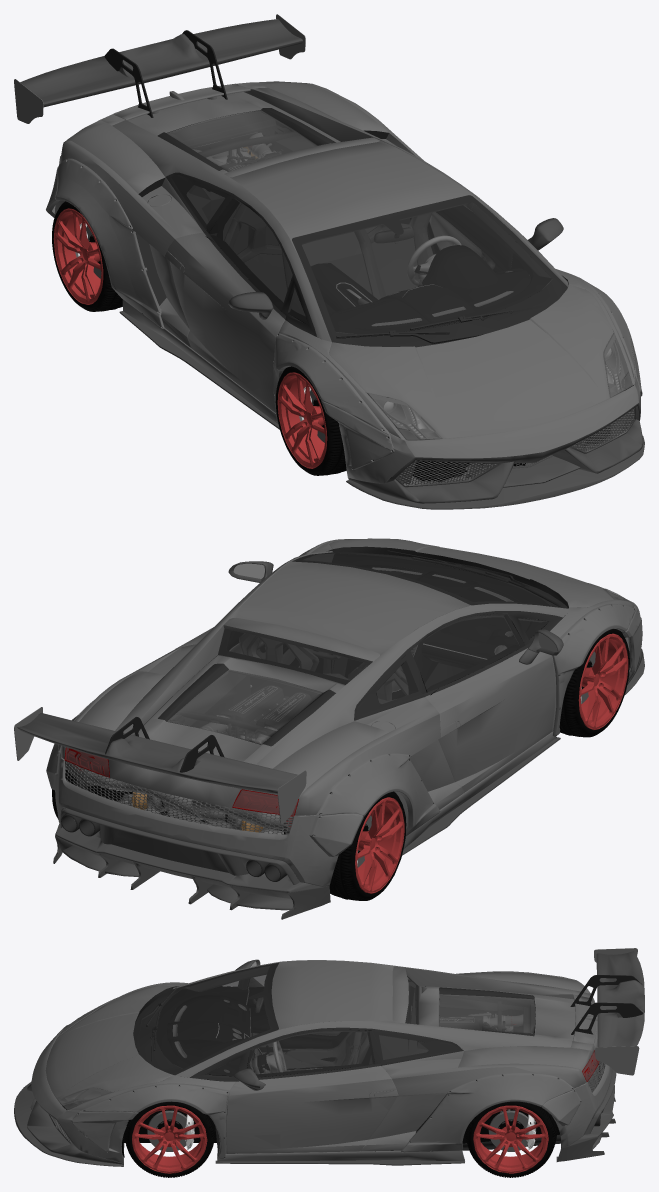
File: gallardo_50.glb
The picture shows the model from 3 angles, top to bottom: view 1: azimuth 30°, elevation 25°; view 2: azimuth 150°, elevation 25°; view 3: azimuth 270°, elevation 25°; orthographic projection. The views are drawn at different scales.
Parts seen in each view (by area): view 1: gallardo_hood_b_gallardo_paint_0, gallardo_tankintake_gallardo_turbo_matblack_0, gallardo_wheel_02a_19x11_gallardo_wheel_01a_0, gallardo_backlight_tinted_gallardo_glass_tinted_0, gallardo_comodo_gallardo_cockpit_0; view 2: gallardo_wheel_02a_19x11_gallardo_wheel_01a_0, gallardo_hood_b_gallardo_paint_0, gallardo_tankintake_gallardo_turbo_matblack_0, gallardo_comodo_gallardo_cockpit_0, gallardo_backlight_tinted_gallardo_glass_tinted_0; view 3: gallardo_hood_b_gallardo_paint_0, gallardo_wheel_02a_19x11_gallardo_wheel_01a_0, gallardo_tankintake_gallardo_turbo_matblack_0, gallardo_comodo_gallardo_cockpit_0, gallardo_backlight_tinted_gallardo_glass_tinted_0.
Boxes of the visible parts, x1,y1,x2,y2 form: gallardo_hood_b_gallardo_paint_0: (14,14,642,483); gallardo_tankintake_gallardo_turbo_matblack_0: (20,19,644,509); gallardo_wheel_02a_19x11_gallardo_wheel_01a_0: (53,81,568,468); gallardo_backlight_tinted_gallardo_glass_tinted_0: (167,110,628,440); gallardo_comodo_gallardo_cockpit_0: (52,111,633,481); gallardo_wheel_02a_19x11_gallardo_wheel_01a_0: (60,551,628,893); gallardo_hood_b_gallardo_paint_0: (14,538,642,886); gallardo_tankintake_gallardo_turbo_matblack_0: (17,561,644,919); gallardo_comodo_gallardo_cockpit_0: (52,546,629,900); gallardo_backlight_tinted_gallardo_glass_tinted_0: (65,538,628,815); gallardo_hood_b_gallardo_paint_0: (31,948,639,1162); gallardo_wheel_02a_19x11_gallardo_wheel_01a_0: (124,960,597,1173); gallardo_tankintake_gallardo_turbo_matblack_0: (14,951,644,1166); gallardo_comodo_gallardo_cockpit_0: (62,963,561,1177); gallardo_backlight_tinted_gallardo_glass_tinted_0: (57,966,599,1106).
Bounding box in the file's own units: 2.18 × 1.14 × 4.72.
4 materials, 4 textured.
